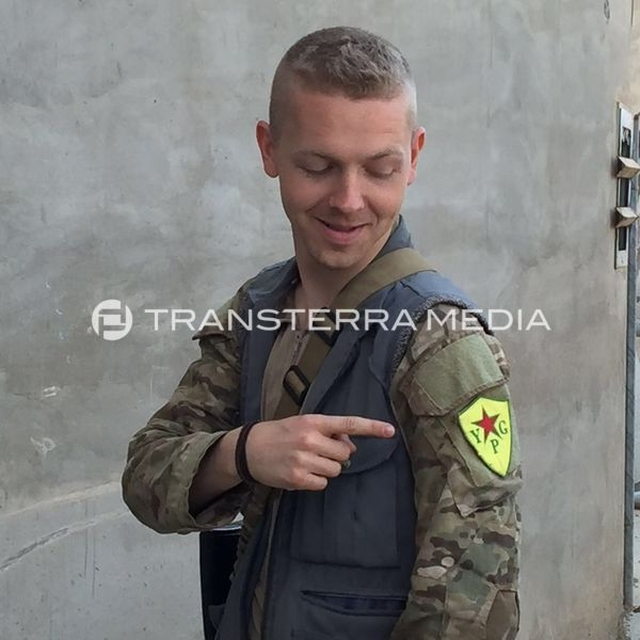YPG: (456, 391, 514, 483)
